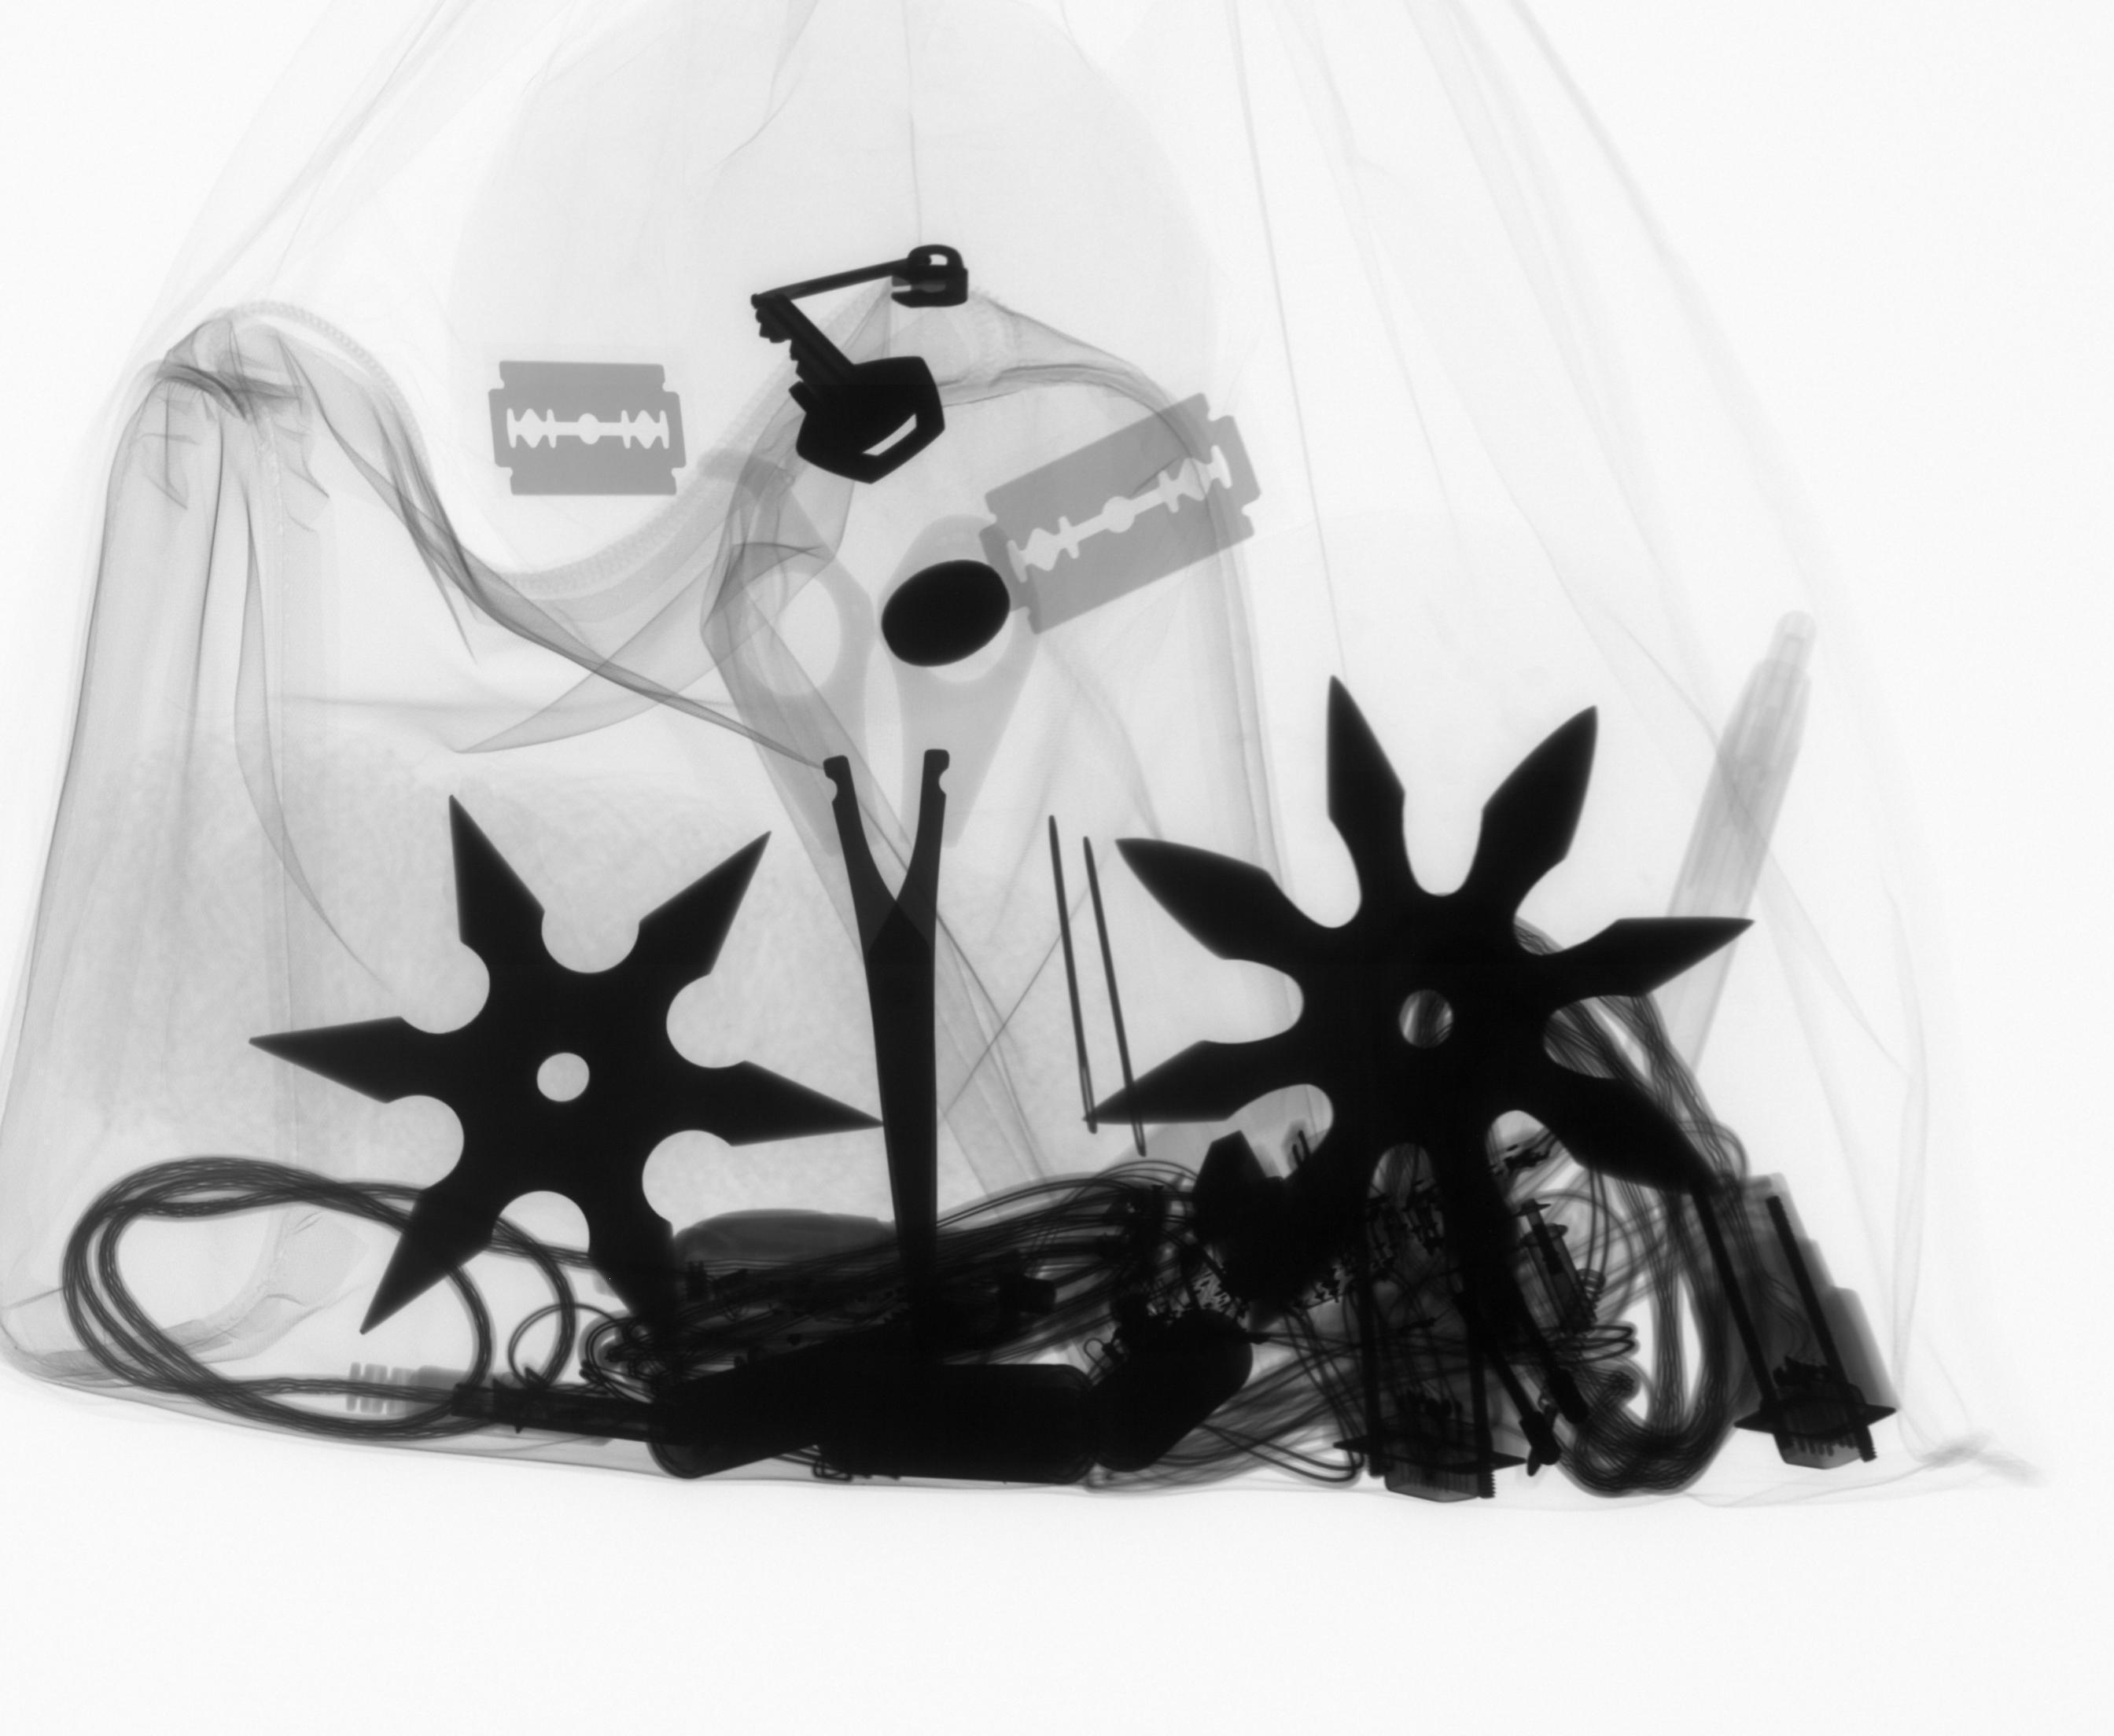RazorBlade: (976, 388, 1269, 644), (479, 351, 704, 523)
Shuriken: (1073, 667, 1775, 1260), (239, 785, 888, 1371)
